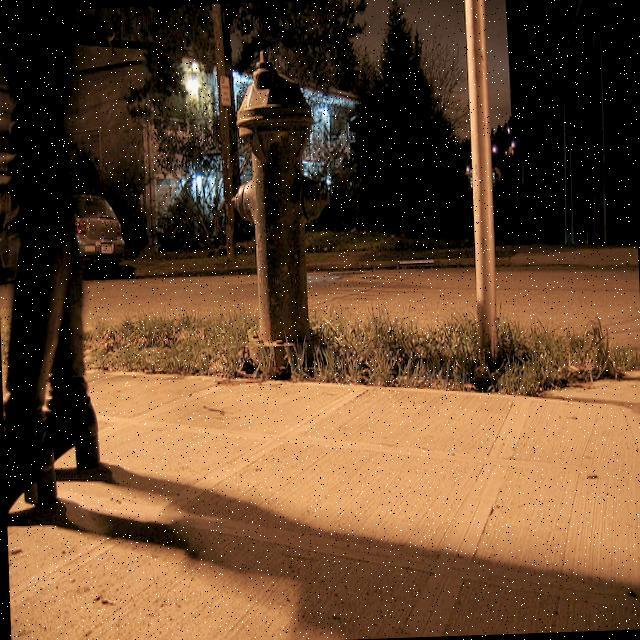fire_hydrant: (222, 44, 326, 372)
